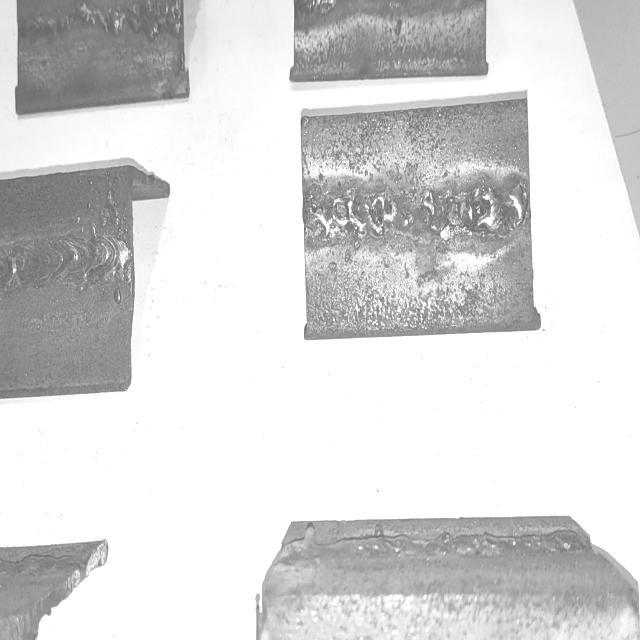Defect: (430, 182, 527, 242), (24, 0, 181, 36), (306, 188, 394, 244)
Welding Line: (2, 233, 128, 287)
Workpiece: (302, 104, 534, 338), (0, 159, 133, 394), (18, 0, 187, 107), (292, 0, 487, 79)
